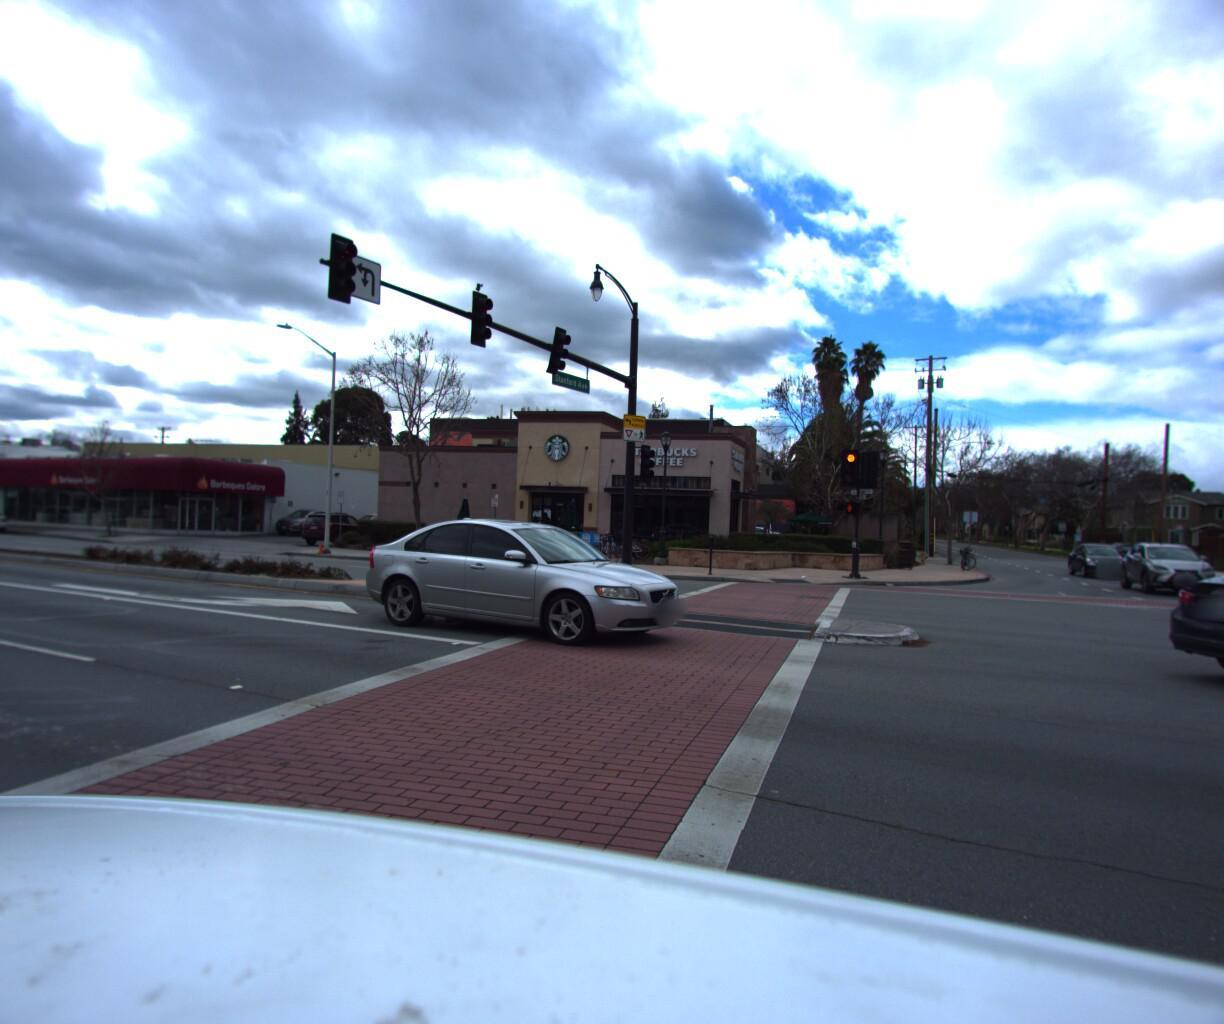bicycle: (951, 539, 978, 565)
car: (350, 505, 705, 655), (1139, 533, 1224, 709), (1110, 535, 1224, 593), (1061, 534, 1134, 573), (297, 504, 379, 538), (1085, 532, 1151, 561), (0, 498, 13, 527)
